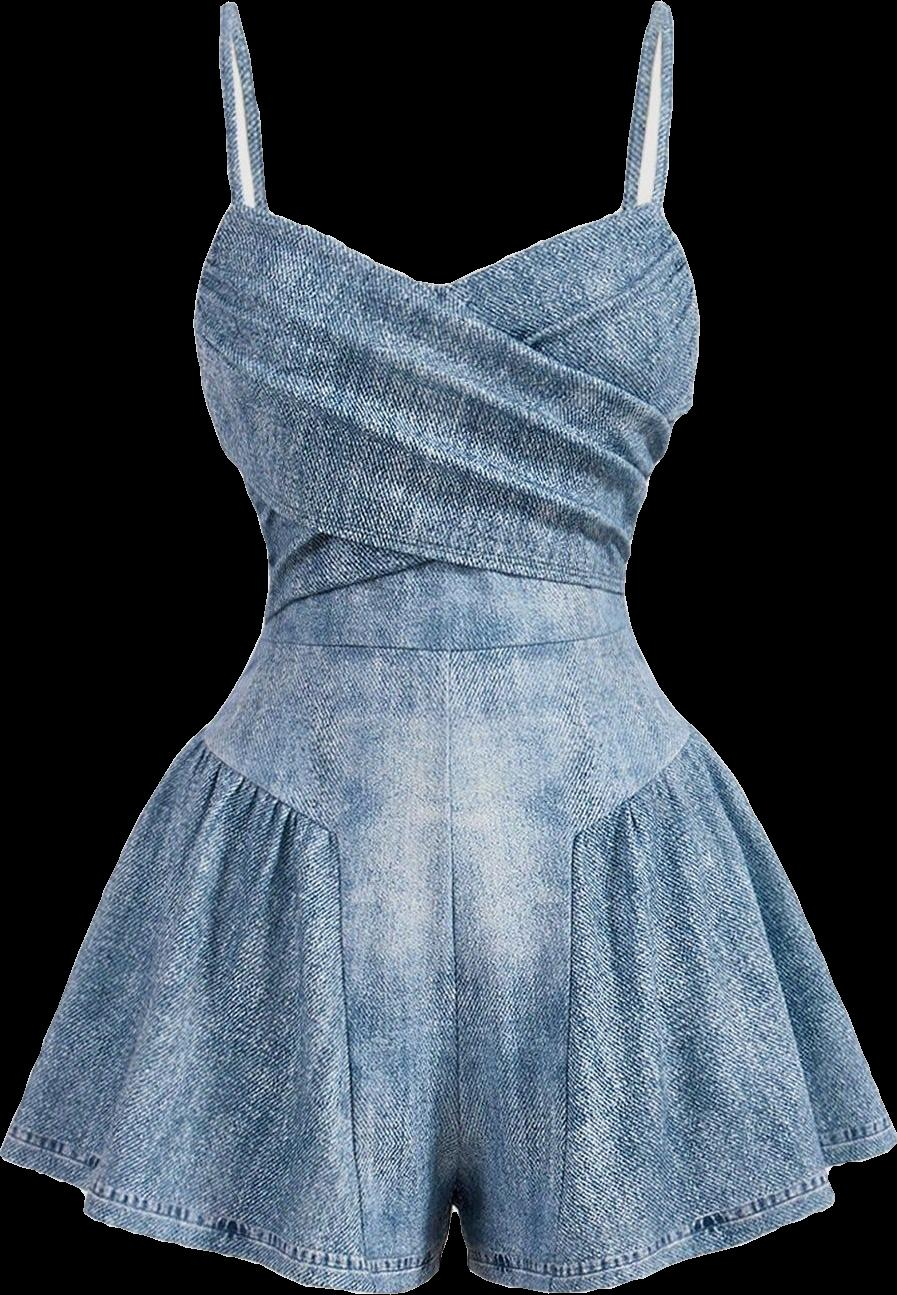Bodice: (193, 193, 700, 653)
Hemline: (0, 1128, 896, 1294)
Neckline: (226, 186, 668, 300)
Skirt: (0, 631, 896, 1293)
Waistline: (256, 620, 644, 667)
